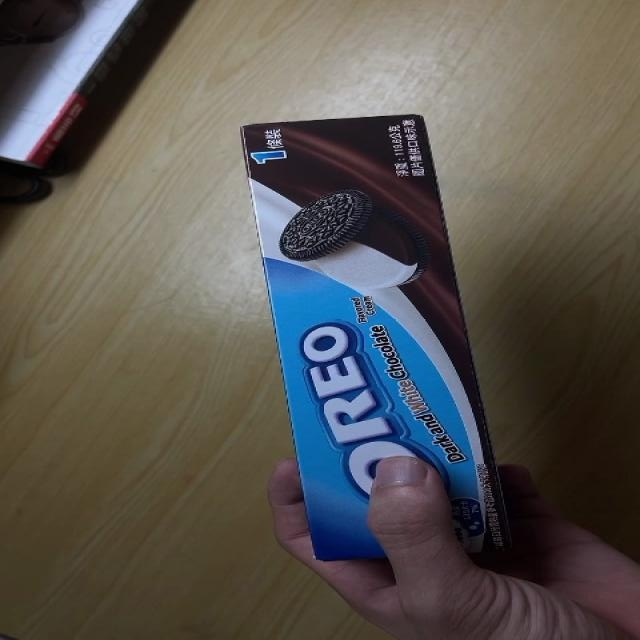Oreo: (242, 111, 496, 561)
